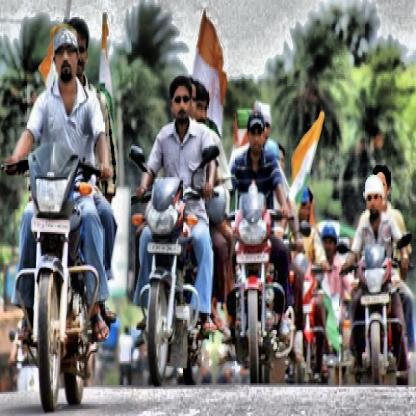not_wear: (188, 76, 211, 127), (57, 28, 77, 80), (70, 14, 88, 70), (172, 75, 190, 119), (248, 116, 263, 152)
wear: (364, 180, 388, 218)
